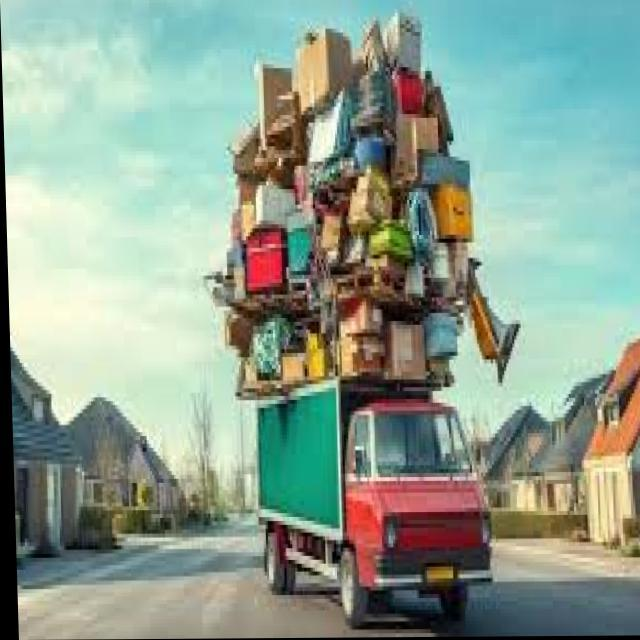uncovered: (216, 10, 491, 622)
